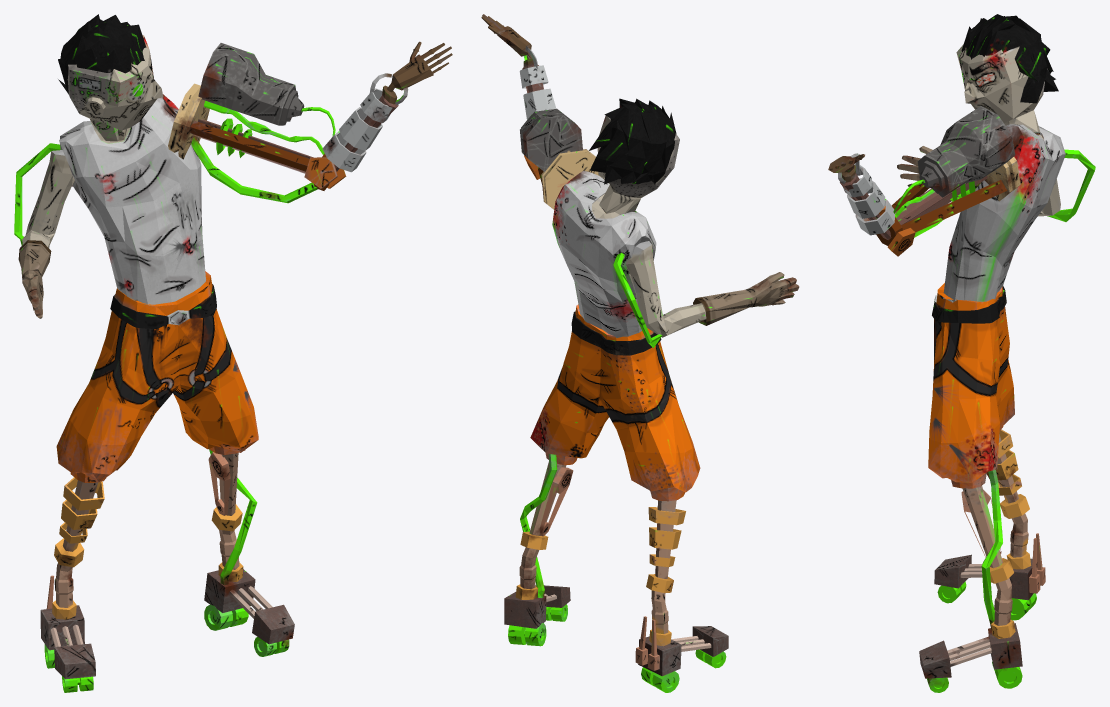
File: CyborgFINALAnimation_000049.obj
3 views of the same model, side by side, from view 1: azimuth 30°, elevation 25°; view 2: azimuth 150°, elevation 25°; view 3: azimuth 270°, elevation 25° (orthographic). The views are drawn at different scales.
Visible parts, largest first — view 1: CyborgMesh_Cube.002; view 2: CyborgMesh_Cube.002; view 3: CyborgMesh_Cube.002.
Part boxes in pixels (x1,y1,x2,y2): CyborgMesh_Cube.002: (14,14,452,692); CyborgMesh_Cube.002: (481,14,799,692); CyborgMesh_Cube.002: (828,14,1095,692).
Size of the model in its own units: 5.99 by 9.54 by 3.77.
